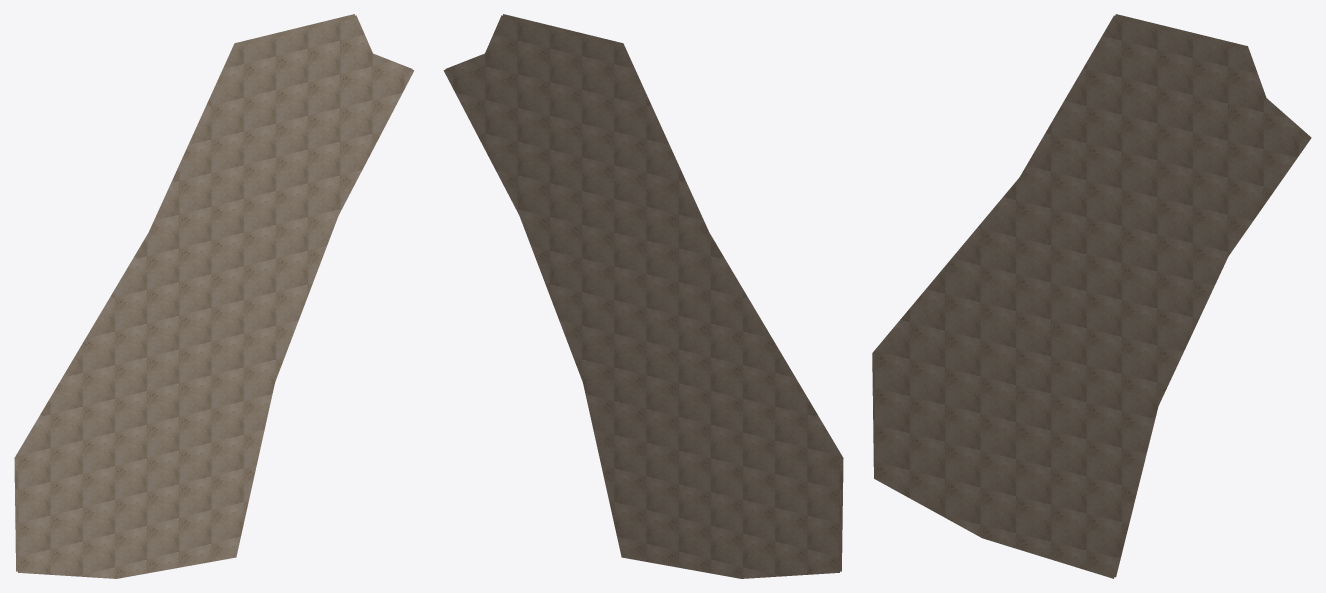
Rendered from floor_47.obj.
3 renders of one model, left to right at view 1: azimuth 30°, elevation 25°; view 2: azimuth 150°, elevation 25°; view 3: azimuth 330°, elevation 25°, orthographic. The views are drawn at different scales.
Parts seen in each view (by area): view 1: floor_47; view 2: floor_47; view 3: floor_47.
Part boxes in pixels (<box>): floor_47: <box>14,14,414,578</box>; floor_47: <box>443,14,843,578</box>; floor_47: <box>872,14,1311,578</box>.
Bounding box in the file's own units: 12.37 × 15.22 × 0.1.
1 material, 1 textured.
